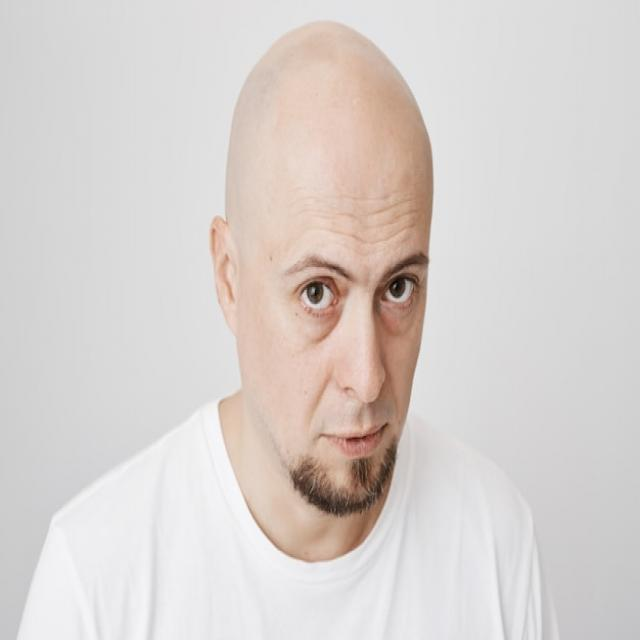bald: (200, 19, 441, 254)
